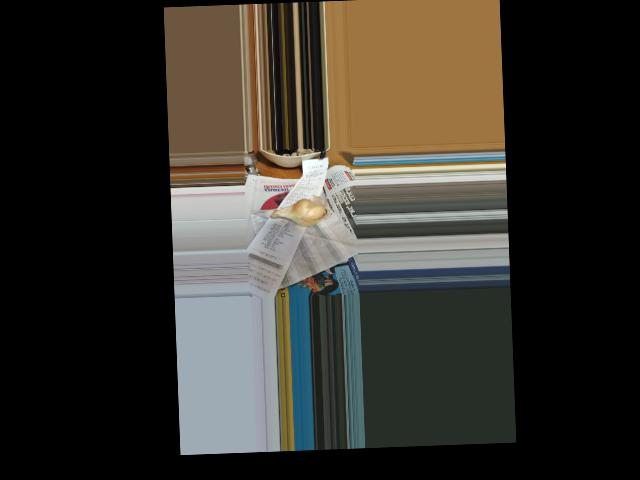onion: (277, 198, 326, 226)
